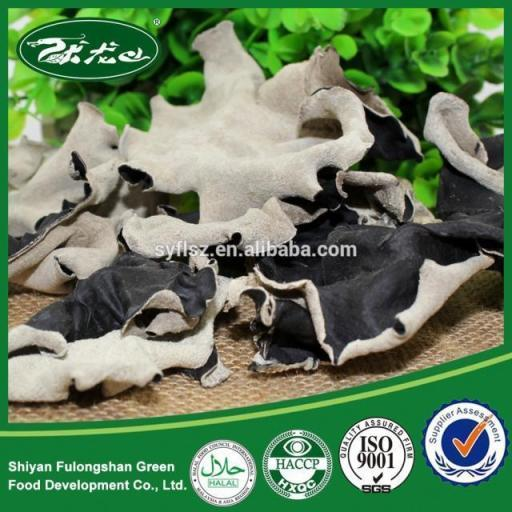mushroom: (1, 22, 505, 405)
